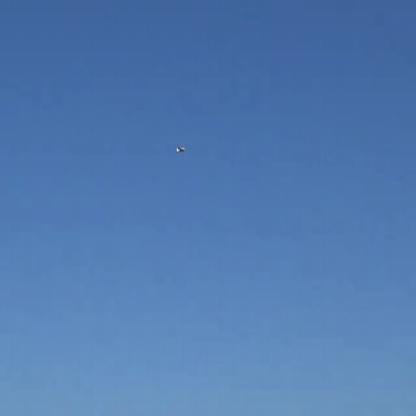CIV_Plane: (176, 146, 186, 154)
